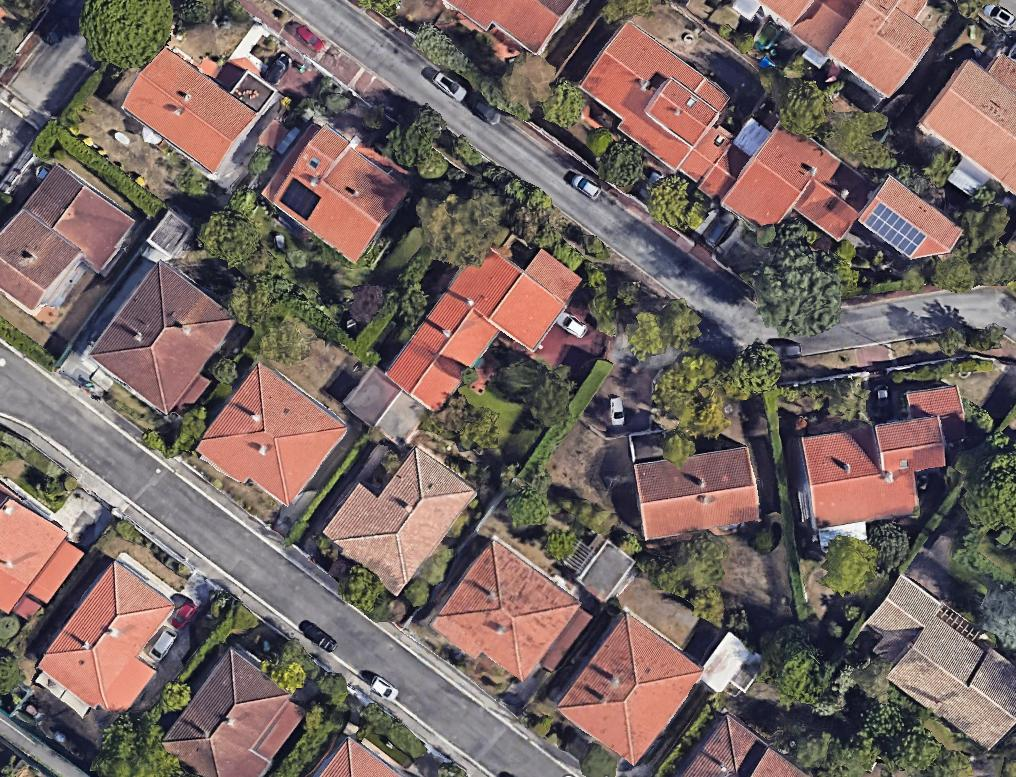maison: (382, 217, 588, 442), (570, 19, 772, 203), (846, 572, 1016, 757), (25, 554, 198, 734), (791, 384, 979, 531), (317, 430, 480, 597), (83, 255, 240, 418), (0, 160, 141, 335), (426, 535, 583, 692), (257, 111, 415, 265), (552, 611, 706, 768), (193, 362, 348, 517), (718, 118, 877, 261), (158, 644, 313, 777), (115, 43, 258, 175), (749, 0, 934, 99), (919, 55, 1015, 193), (0, 493, 88, 632), (633, 446, 760, 540), (855, 174, 964, 274), (678, 715, 806, 776), (443, 0, 577, 53), (314, 738, 405, 776)
